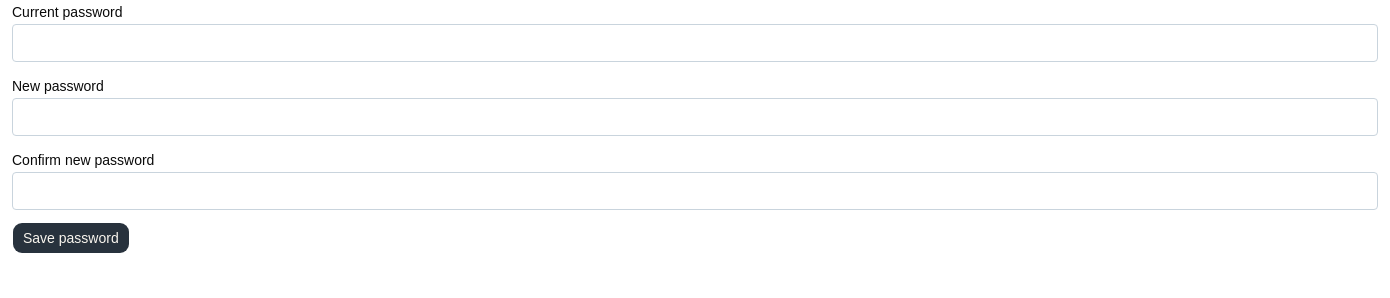
Scenario: rejects when new password equals current
This screenshot has width=1390, height=298.
Type "same-password-1" into the password field labelled "Current password". click: (695, 43)
box: [12,24,1378,62]
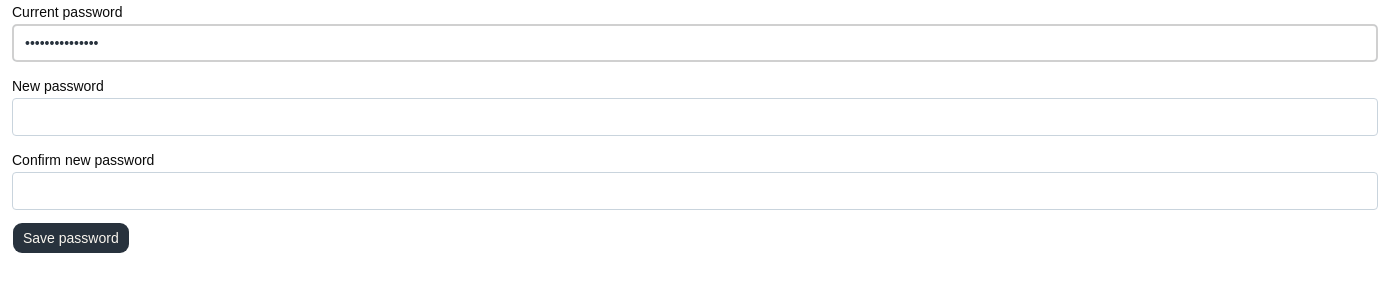
Type "same-password-1" into the password field labelled "New password". click: (695, 117)
box: [12,98,1378,136]
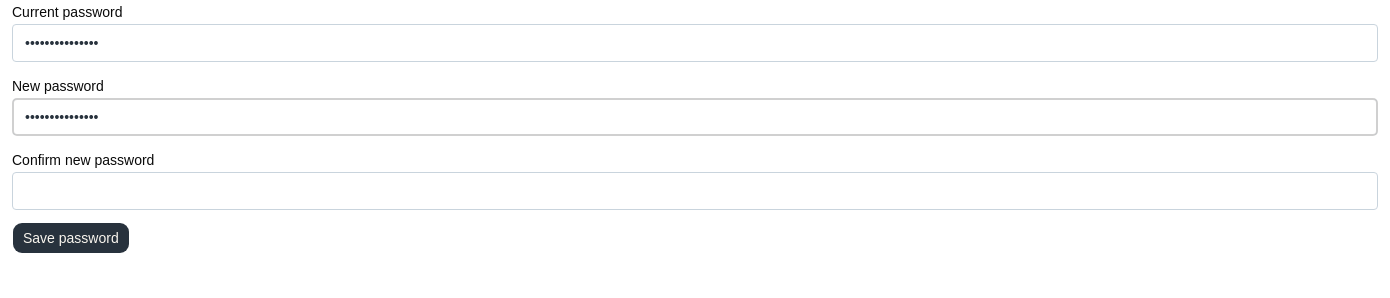
Type "same-password-1" into the password field labelled "Confirm new password". click: (695, 191)
box: [12,172,1378,210]
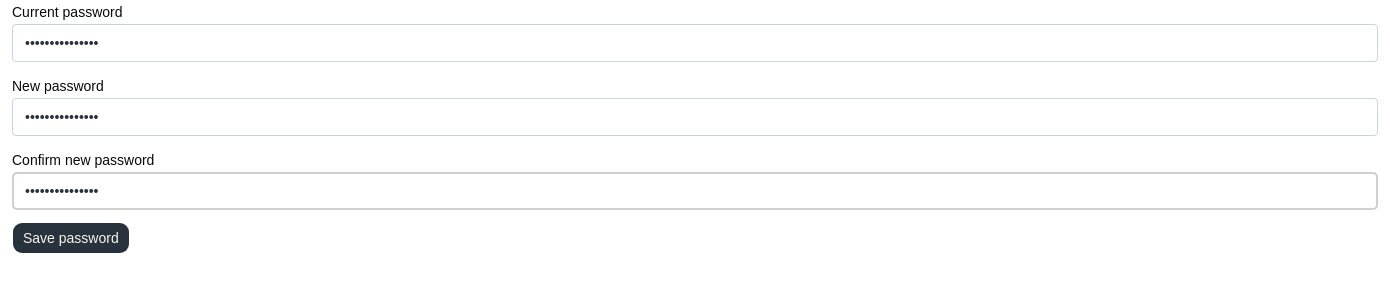
Click the button "Save password". click: (71, 238)
box: [12,222,130,254]
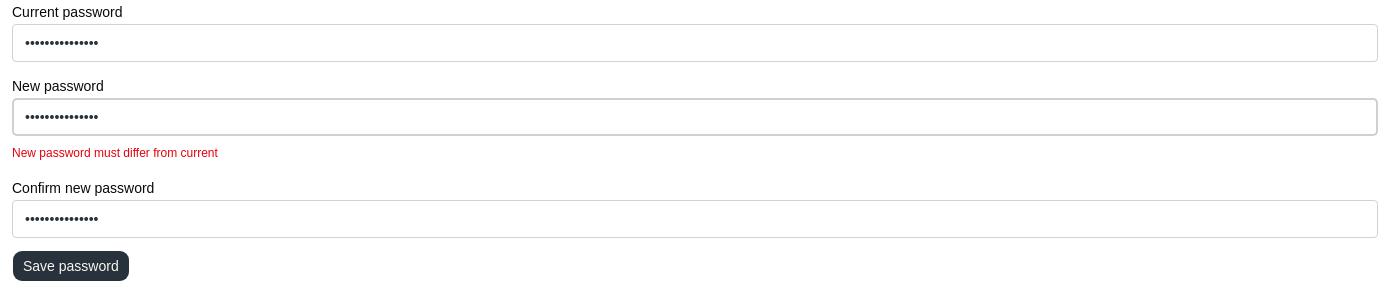
Result: the text "New password must differ from current" is shown at [12,146,218,160]
